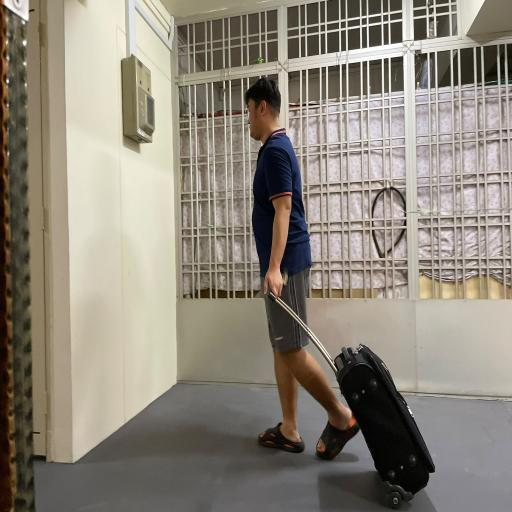person_left: (226, 80, 438, 506)
